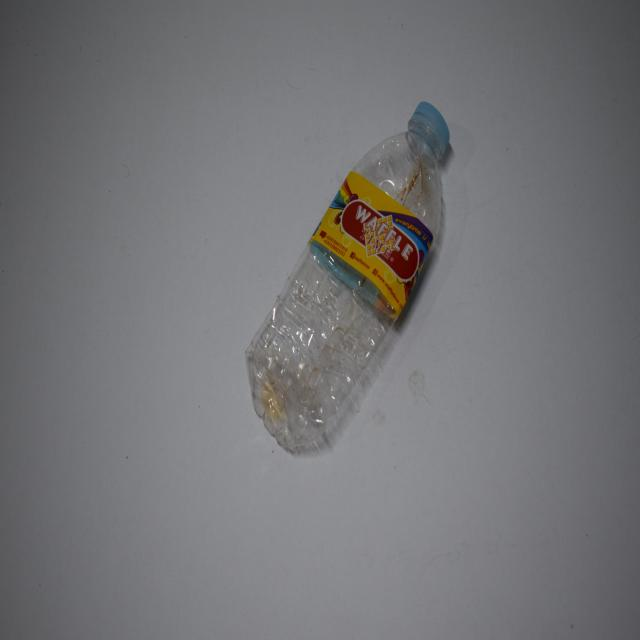plastic: (242, 94, 452, 477)
